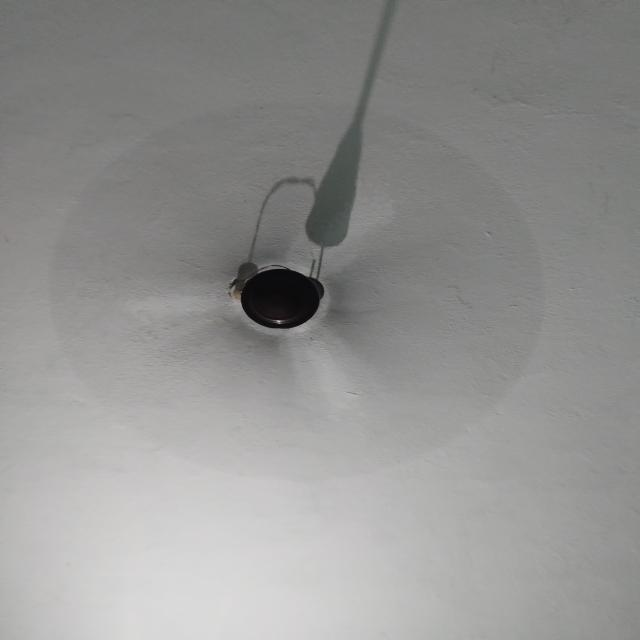fan_on: (51, 102, 546, 482)
